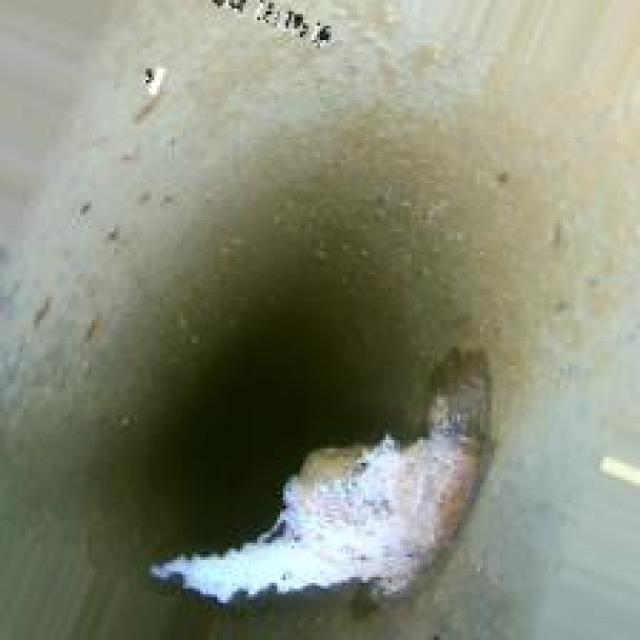ferrule: (272, 349, 512, 600)
